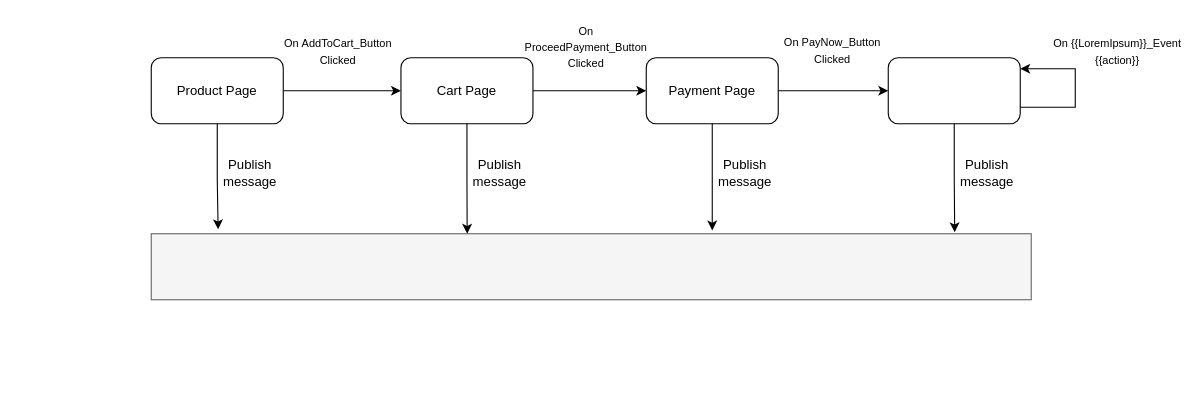
The diagram is 1203 pixels wide and 417 high, and some of its shapes have lost their labels. Each missing label, with the centre of its shape:
"Kafka" goes at (x=590, y=266).
"Post-Purchase Service" goes at (x=953, y=90).
